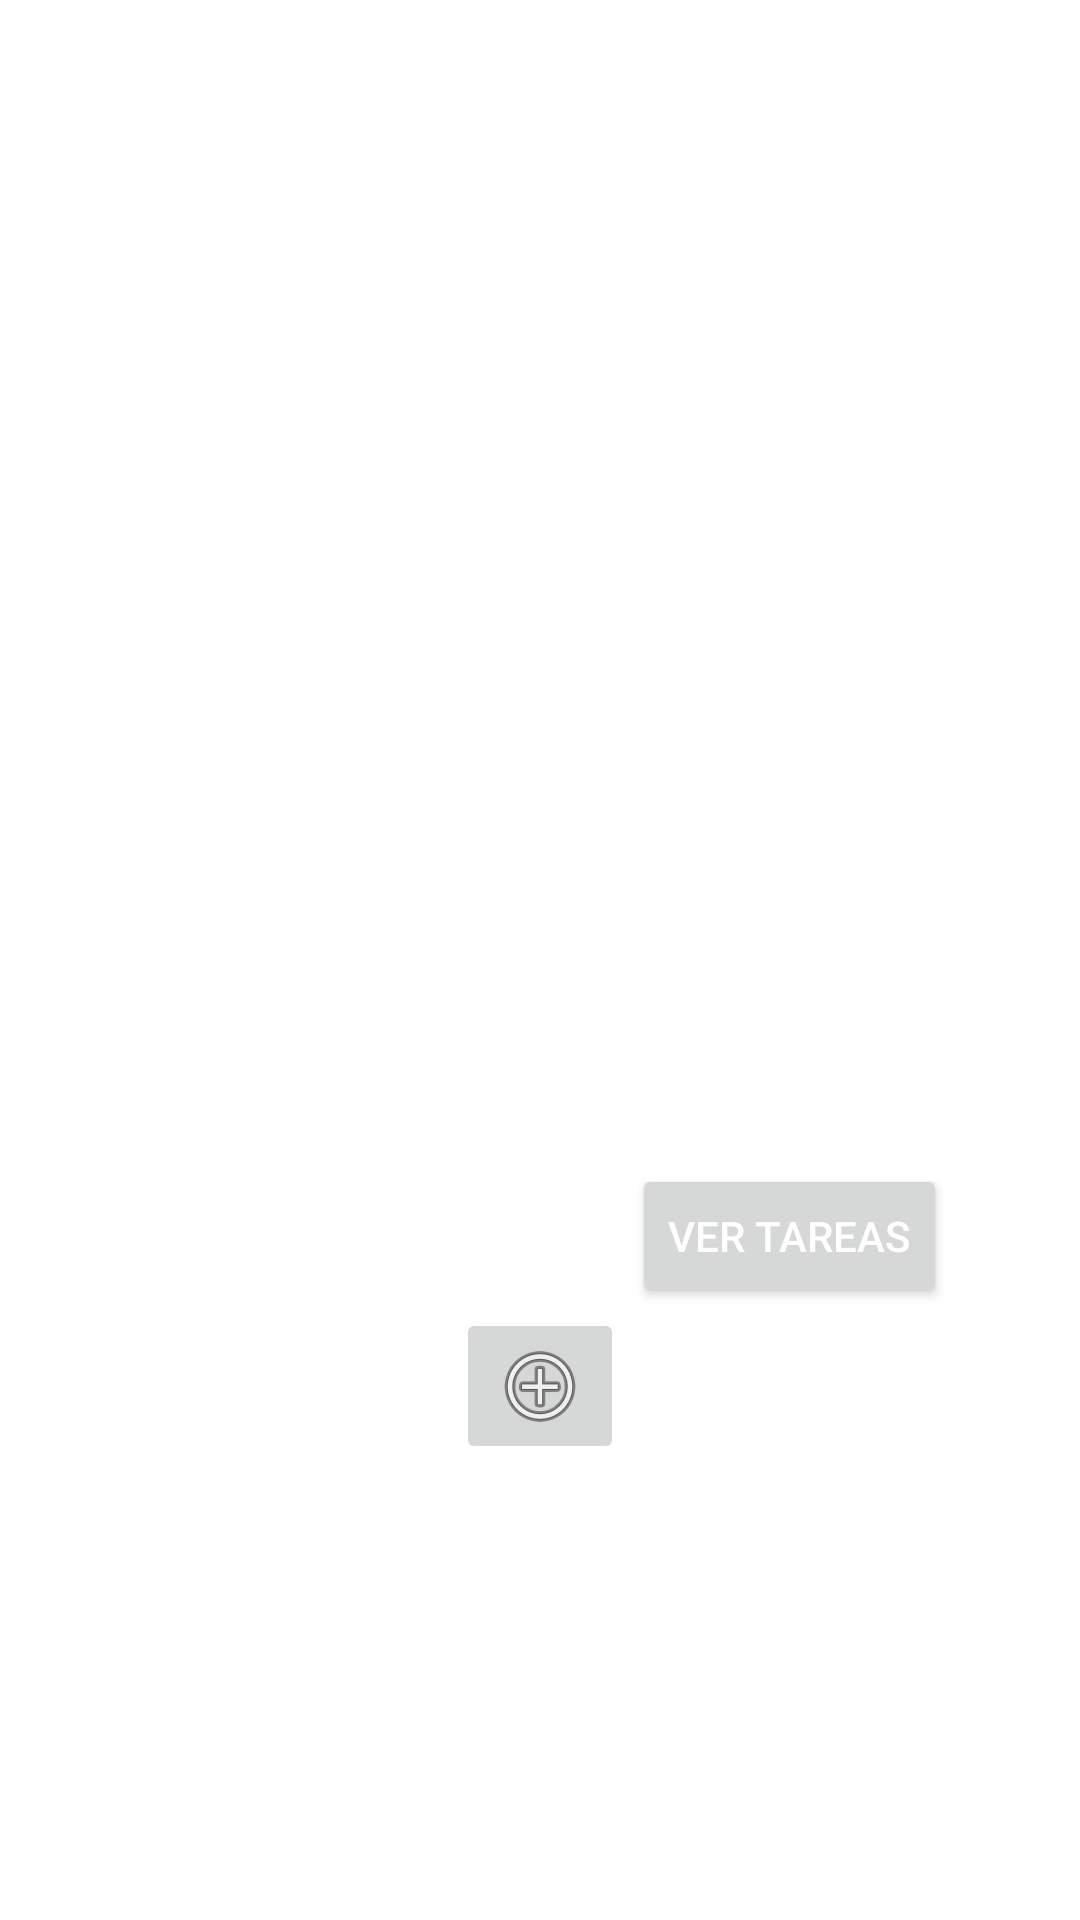

Screen size 1080w x 1920h. Icon name, then its center in pixels as [x,y]:
add: [540,1386]
